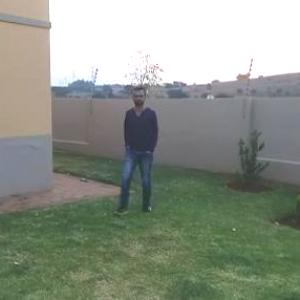follow: (118, 85, 160, 207)
